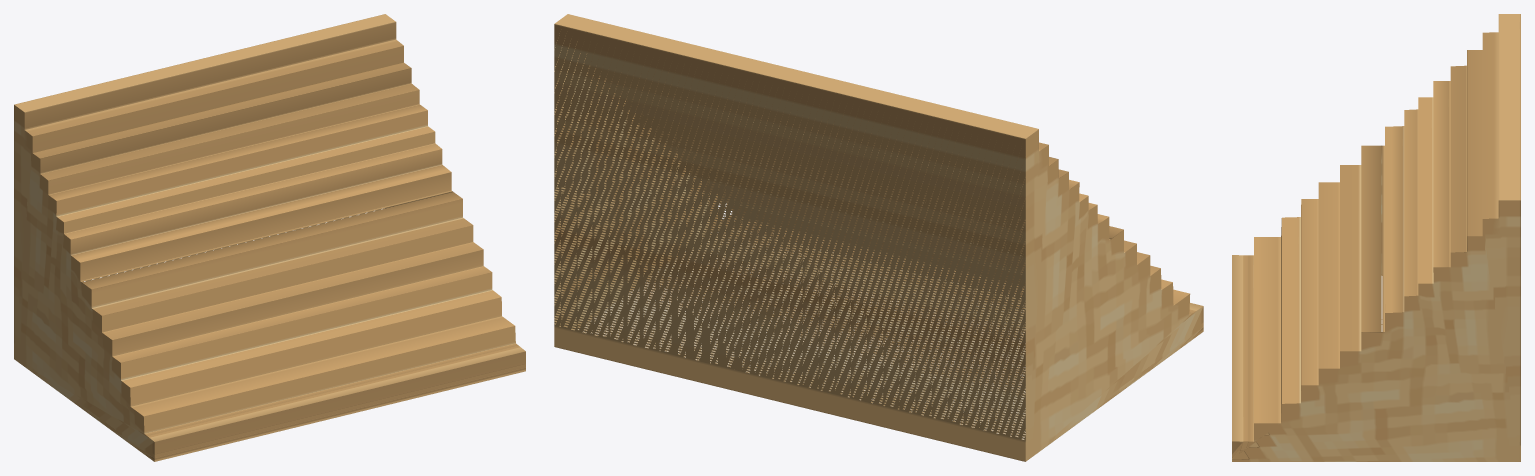
The model's file is badlymodeledstaircaselol3.obj.
3 renders of one model, left to right at view 1: azimuth 30°, elevation 25°; view 2: azimuth 150°, elevation 25°; view 3: azimuth 270°, elevation 25°, orthographic. The views are drawn at different scales.
Visible parts, largest first — view 1: blenderstaircasecreator; view 2: blenderstaircasecreator; view 3: blenderstaircasecreator.
Part boxes in pixels (x1,y1,x2,y2): blenderstaircasecreator: (14, 14, 525, 461); blenderstaircasecreator: (554, 14, 1203, 461); blenderstaircasecreator: (1232, 14, 1520, 461).
Bounding box in the file's own units: 1.53 × 1 × 1.
